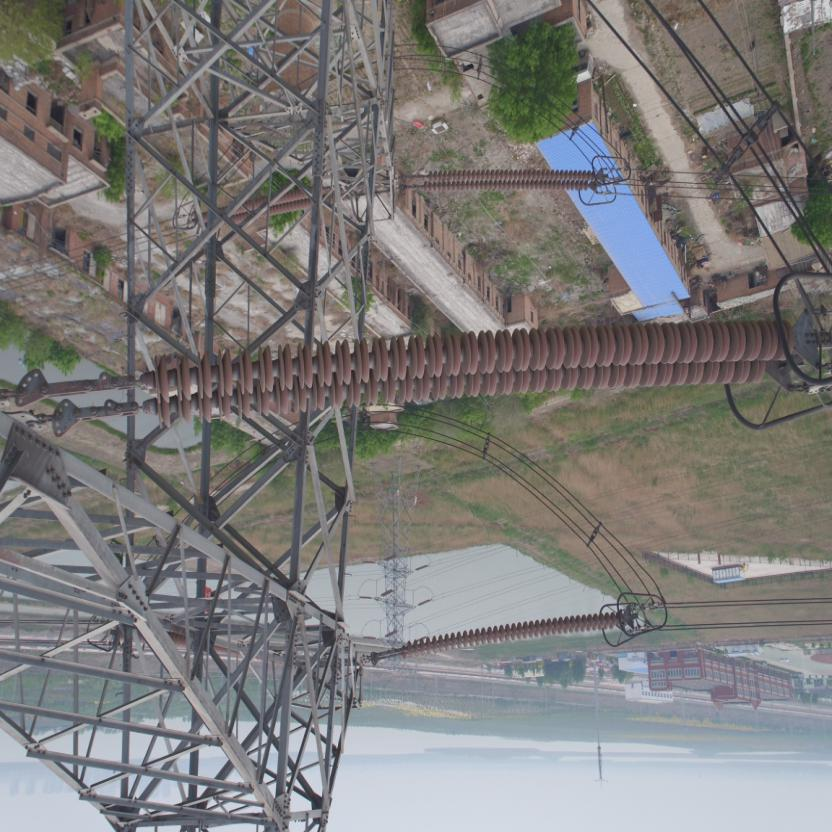insulator: (106, 319, 806, 435), (386, 608, 622, 664), (412, 166, 598, 196)
